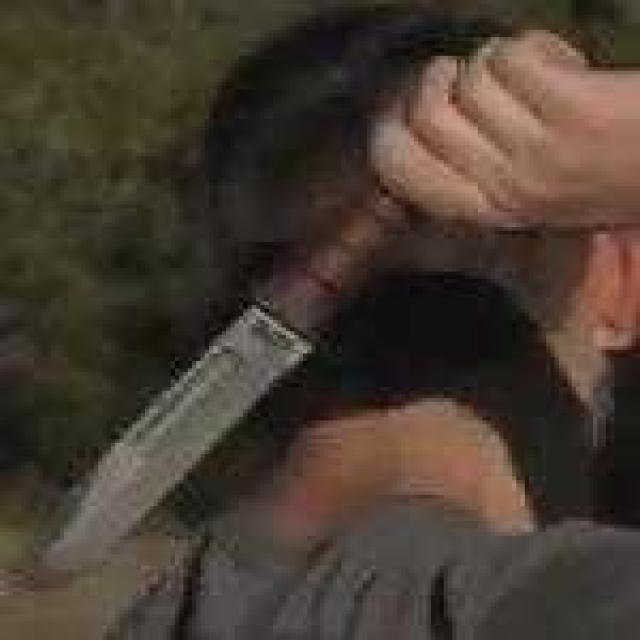Knife: (30, 30, 560, 594)
